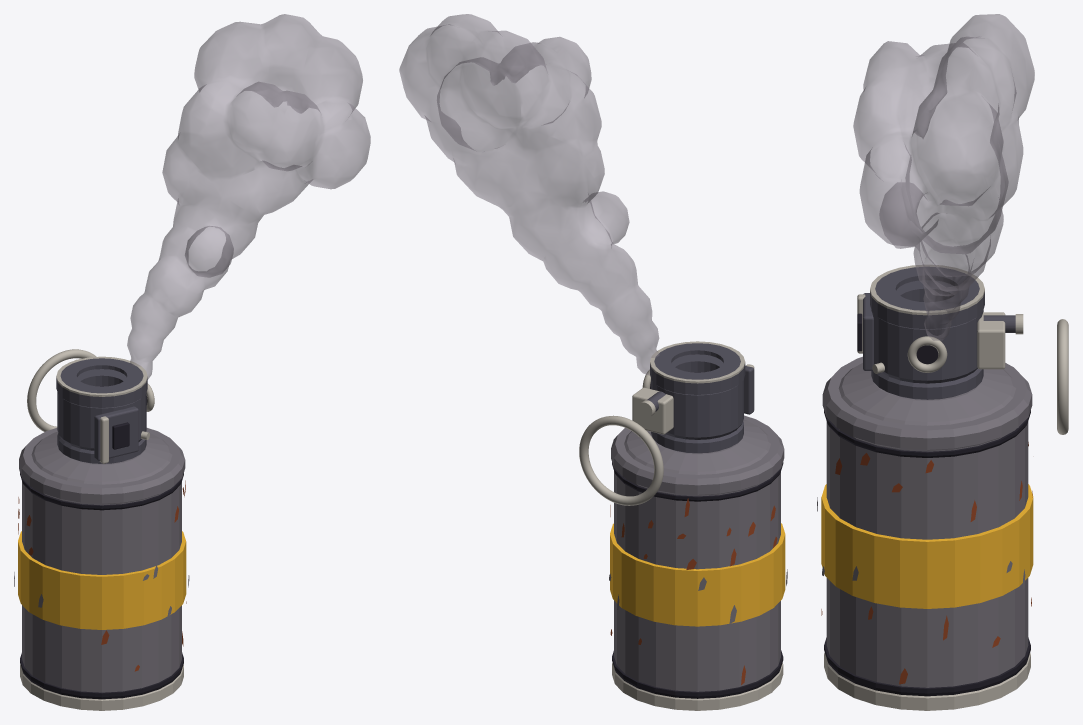
3 renders of one model, left to right at view 1: azimuth 30°, elevation 25°; view 2: azimuth 150°, elevation 25°; view 3: azimuth 270°, elevation 25°, orthographic. The views are drawn at different scales.
Parts seen in each view (by area): view 1: smoke, body, static_pal_schoolBusYellow, static_pal_pantsDark, static_pal_silver, static_pal_uiDark, pullRing; view 2: smoke, body, static_pal_schoolBusYellow, static_pal_pantsDark, static_pal_silver, pullRing, static_pal_uiDark, static_pal_hairCopper; view 3: body, smoke, static_pal_schoolBusYellow, static_pal_pantsDark, static_pal_silver, static_pal_uiDark, pullRing, static_pal_hairCopper.
Part boxes in pixels (<box>): smoke: <box>127,14,370,379</box>; body: <box>14,428,189,692</box>; static_pal_schoolBusYellow: <box>18,531,186,629</box>; static_pal_pantsDark: <box>56,358,147,463</box>; static_pal_silver: <box>20,356,183,710</box>; static_pal_uiDark: <box>20,386,183,699</box>; pullRing: <box>27,349,96,431</box>; smoke: <box>399,14,659,375</box>; body: <box>609,415,787,691</box>; static_pal_schoolBusYellow: <box>610,523,785,626</box>; static_pal_pantsDark: <box>647,343,754,453</box>; static_pal_silver: <box>612,341,783,710</box>; pullRing: <box>579,415,663,505</box>; static_pal_uiDark: <box>612,372,783,698</box>; static_pal_hairCopper: <box>610,498,777,684</box>; body: <box>817,356,1032,687</box>; smoke: <box>853,14,1034,340</box>; static_pal_schoolBusYellow: <box>821,484,1033,608</box>; static_pal_pantsDark: <box>863,267,1015,399</box>; static_pal_silver: <box>824,265,1030,710</box>; static_pal_uiDark: <box>824,313,1030,696</box>; pullRing: <box>1057,319,1068,434</box>; static_pal_hairCopper: <box>821,442,1032,684</box>.
Bounding box in the file's own units: 0.3904 × 0.6531 × 0.1975.
